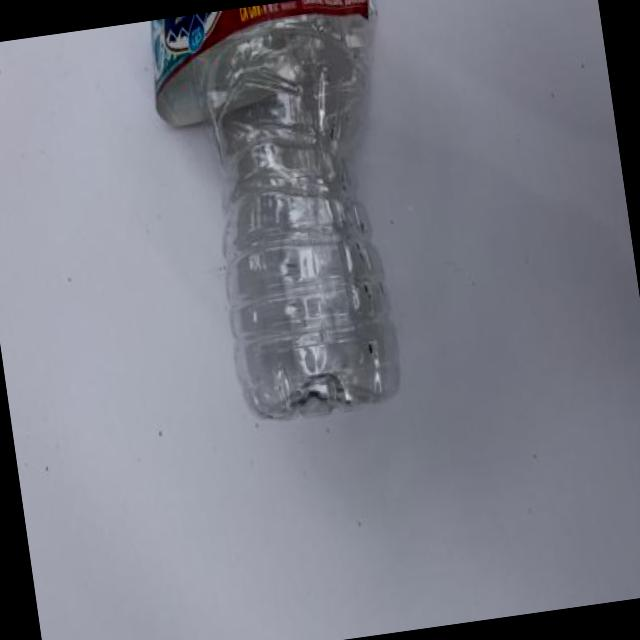Recycle: (185, 0, 407, 425)
